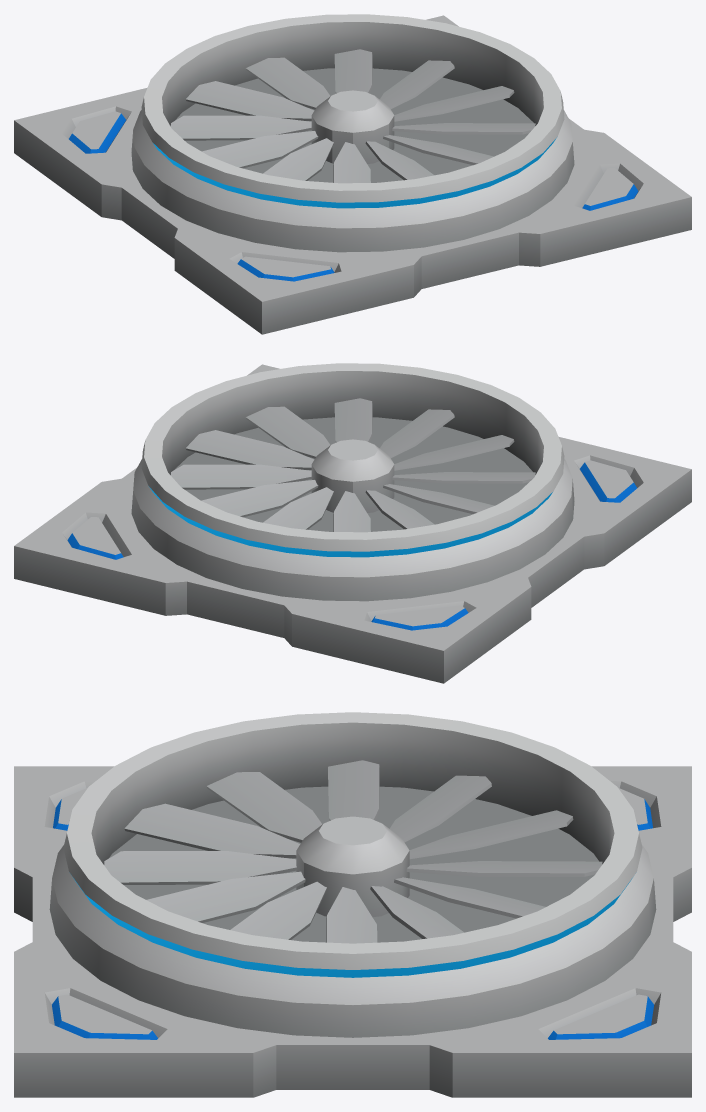
File: Ventilation_008.glb
3 views of the same model, one above another, from view 1: azimuth 30°, elevation 25°; view 2: azimuth 150°, elevation 25°; view 3: azimuth 270°, elevation 25° (orthographic). The views are drawn at different scales.
Visible parts, largest first — view 1: Ventilation_008, Ventilation_015; view 2: Ventilation_008, Ventilation_015; view 3: Ventilation_008, Ventilation_015.
Boxes of the visible parts, x1,y1,x2,y2 form: Ventilation_008: [14, 14, 691, 334]; Ventilation_015: [171, 49, 535, 183]; Ventilation_008: [14, 363, 691, 683]; Ventilation_015: [171, 398, 535, 532]; Ventilation_008: [14, 712, 691, 1097]; Ventilation_015: [104, 760, 602, 943].
Bounding box in the file's own units: 1 × 0.2021 × 1.
Materials: 2 (2 with a texture image).
